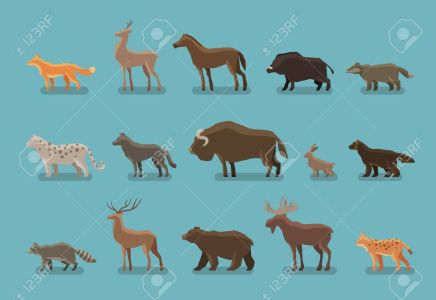bear: (179, 223, 261, 276)
fox: (24, 52, 100, 93)
wolf: (110, 130, 180, 183)
